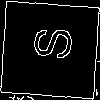S: (25, 24, 73, 62)
